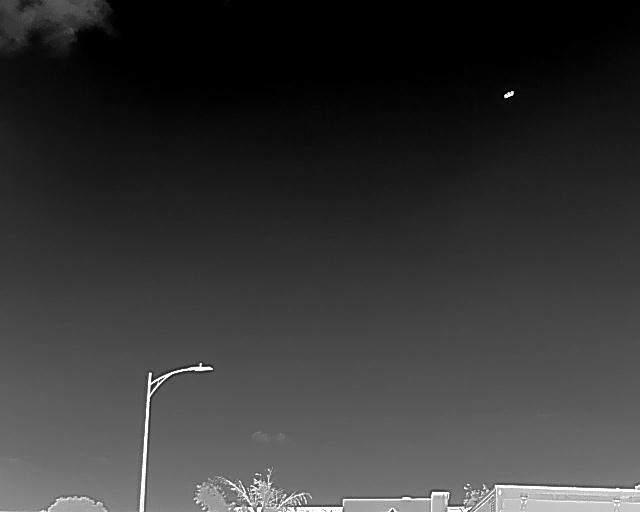fpv-drone: (503, 90, 514, 99)
